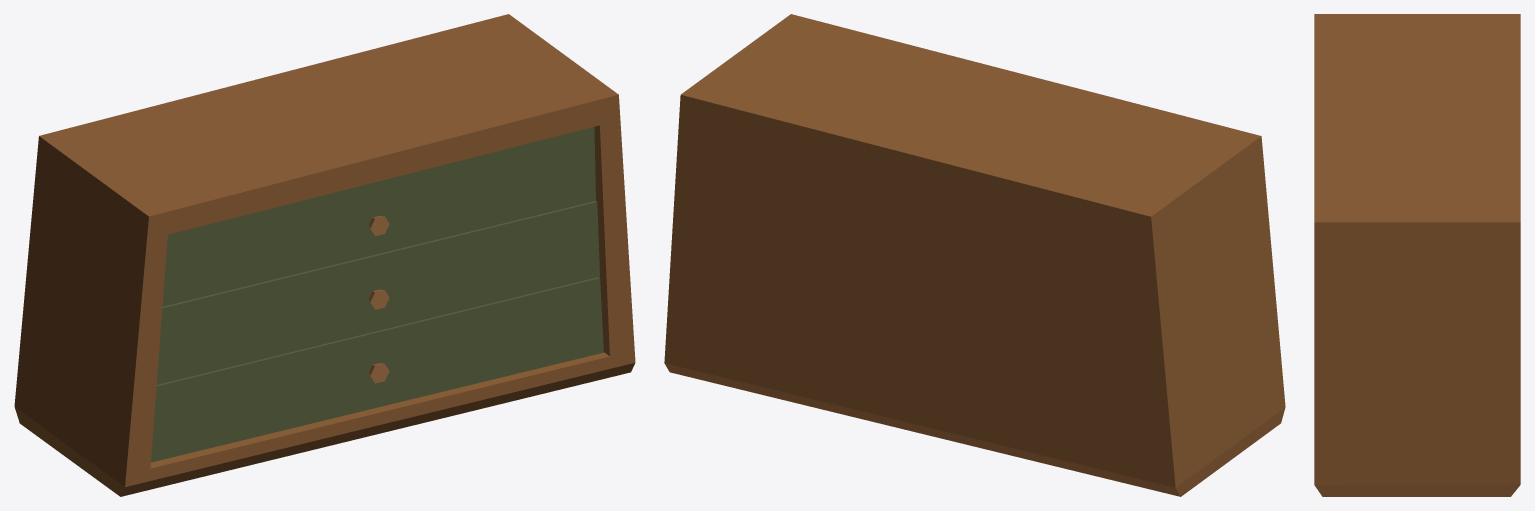
File: kitchen locker .fbx
The picture shows the model from 3 angles, left to right: view 1: azimuth 30°, elevation 25°; view 2: azimuth 150°, elevation 25°; view 3: azimuth 270°, elevation 25°; orthographic projection. The views are drawn at different scales.
Parts seen in each view (by area): view 1: kitchen locker, kitchen locker door 3, kitchen locker door 2, kitchen locker door 1; view 2: kitchen locker; view 3: kitchen locker.
Part boxes in pixels (box(x1,y1,x2,y2)): kitchen locker: box(14, 14, 635, 496); kitchen locker door 3: box(151, 277, 603, 462); kitchen locker door 2: box(156, 201, 599, 384); kitchen locker door 1: box(162, 127, 595, 306); kitchen locker: box(664, 14, 1285, 496); kitchen locker: box(1314, 14, 1520, 496).
Size of the model in its own units: 1.94 by 1.04 by 0.7257.
